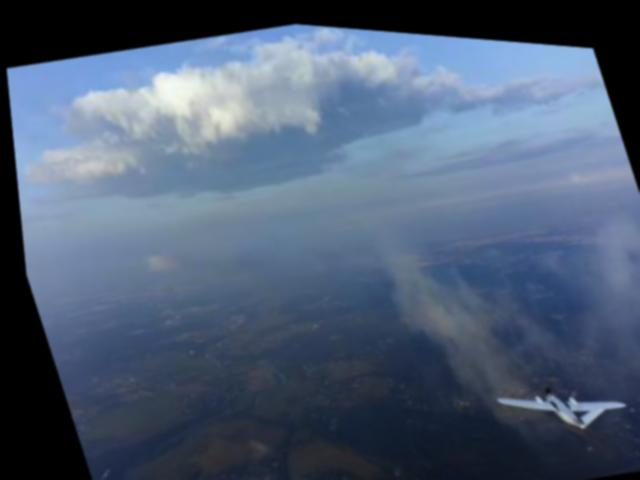uav: (484, 354, 628, 439)
